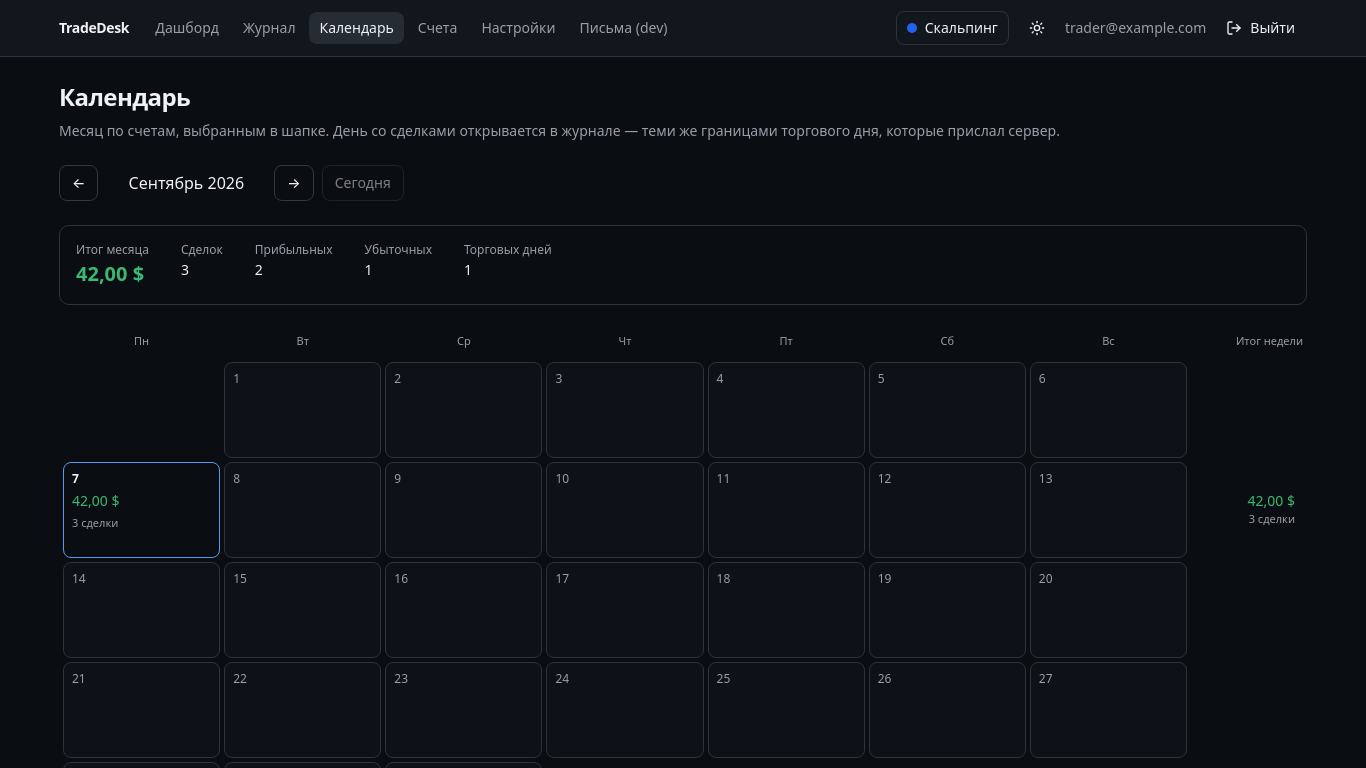
it: календарь: месяц в адресе › переключение месяца ведёт состояние через адрес и возвращает к текущему
Expected: the heading "Календарь" is shown, [59,80,190,113]
Expected: the link with aria-label "7 число" is shown, [63,462,220,558]
Step 1. Click the button named "Предыдущий месяц" → {"x": 79, "y": 183}, box [59,165,98,201]
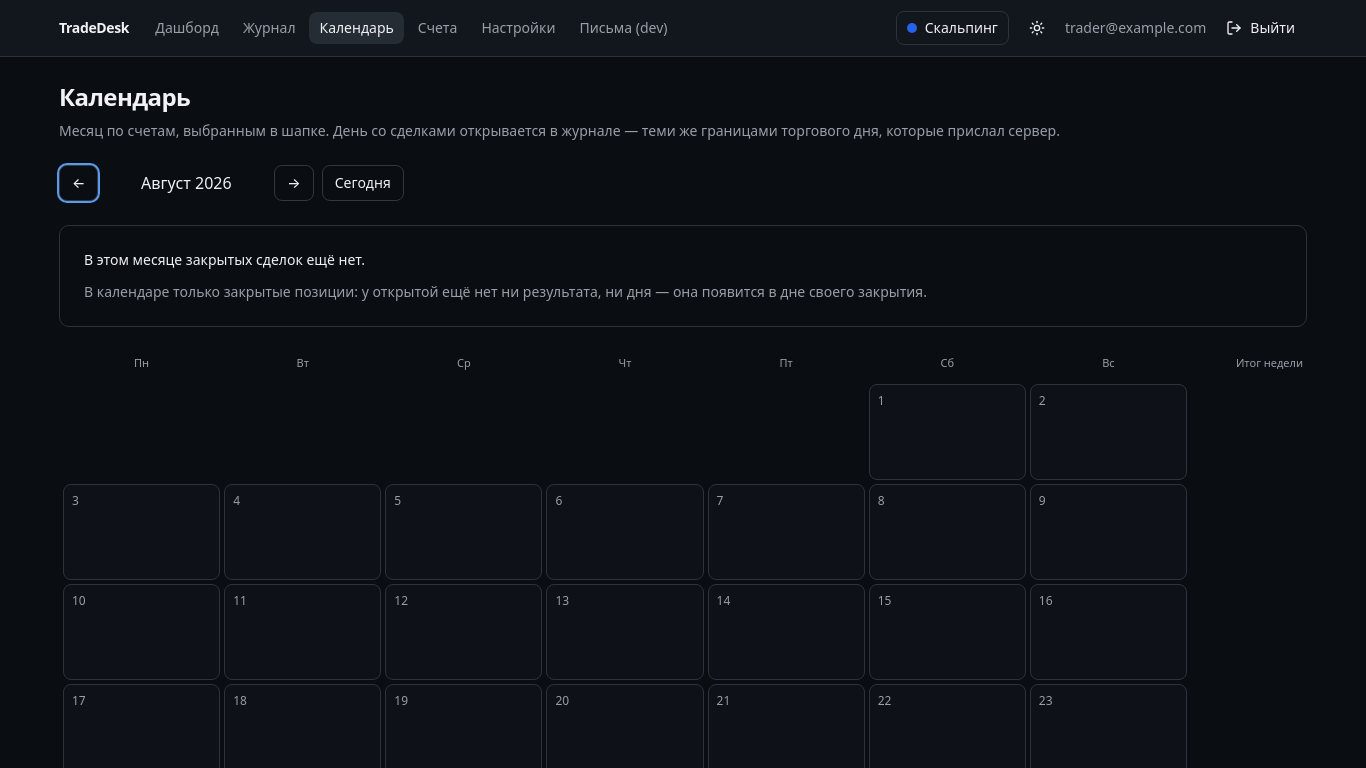
Now the button "Сегодня" is enabled
Step 2. Click the button "Сегодня" → {"x": 363, "y": 183}, box [322,165,404,201]
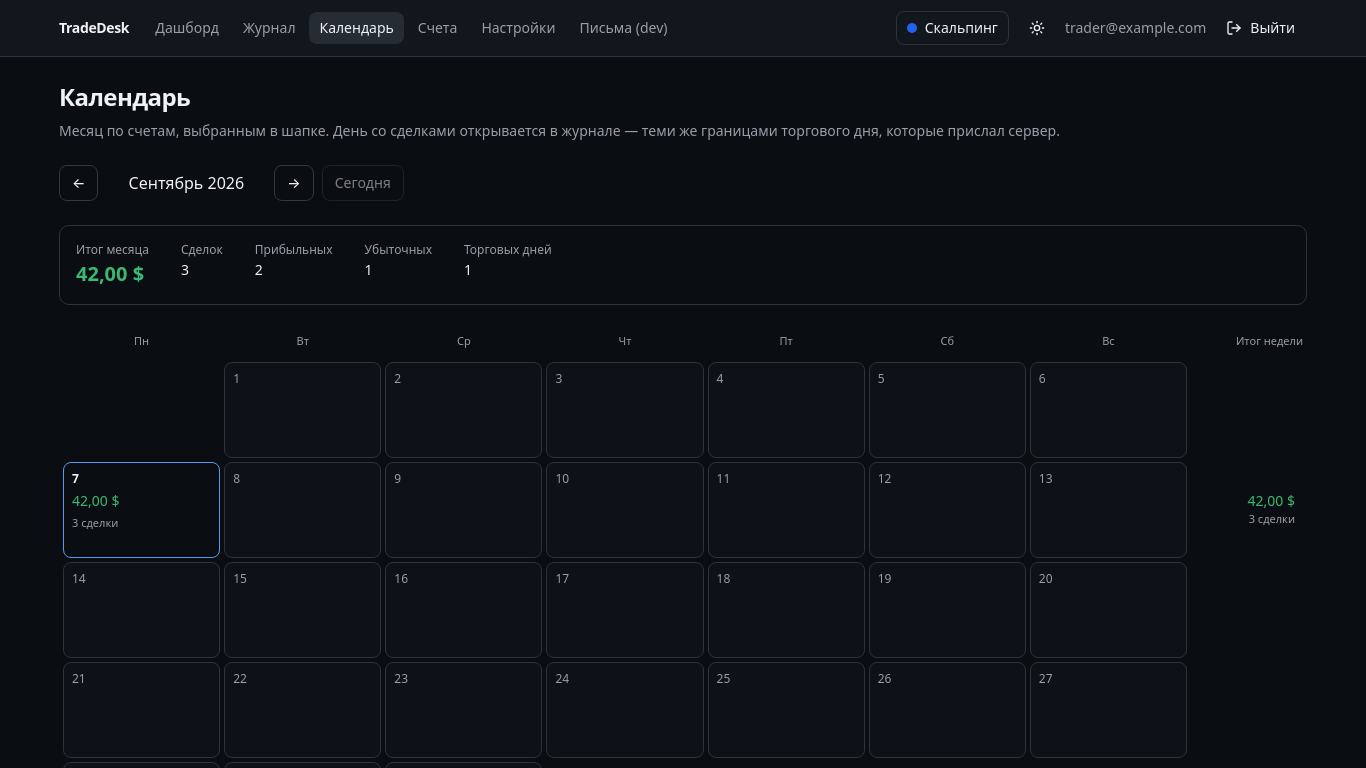
Now the button "Сегодня" is disabled, box [322,165,404,201]
